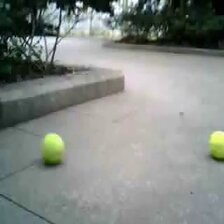tennis: (42, 134, 63, 163), (208, 130, 224, 157)
